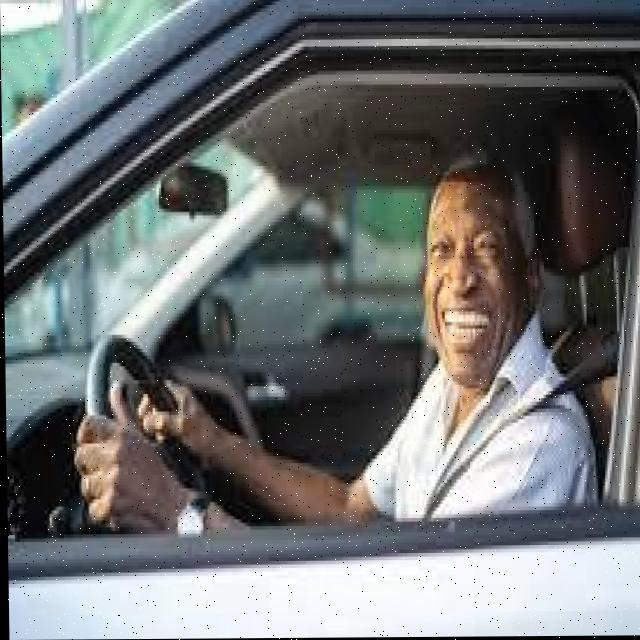seatbelt: (403, 354, 638, 556)
